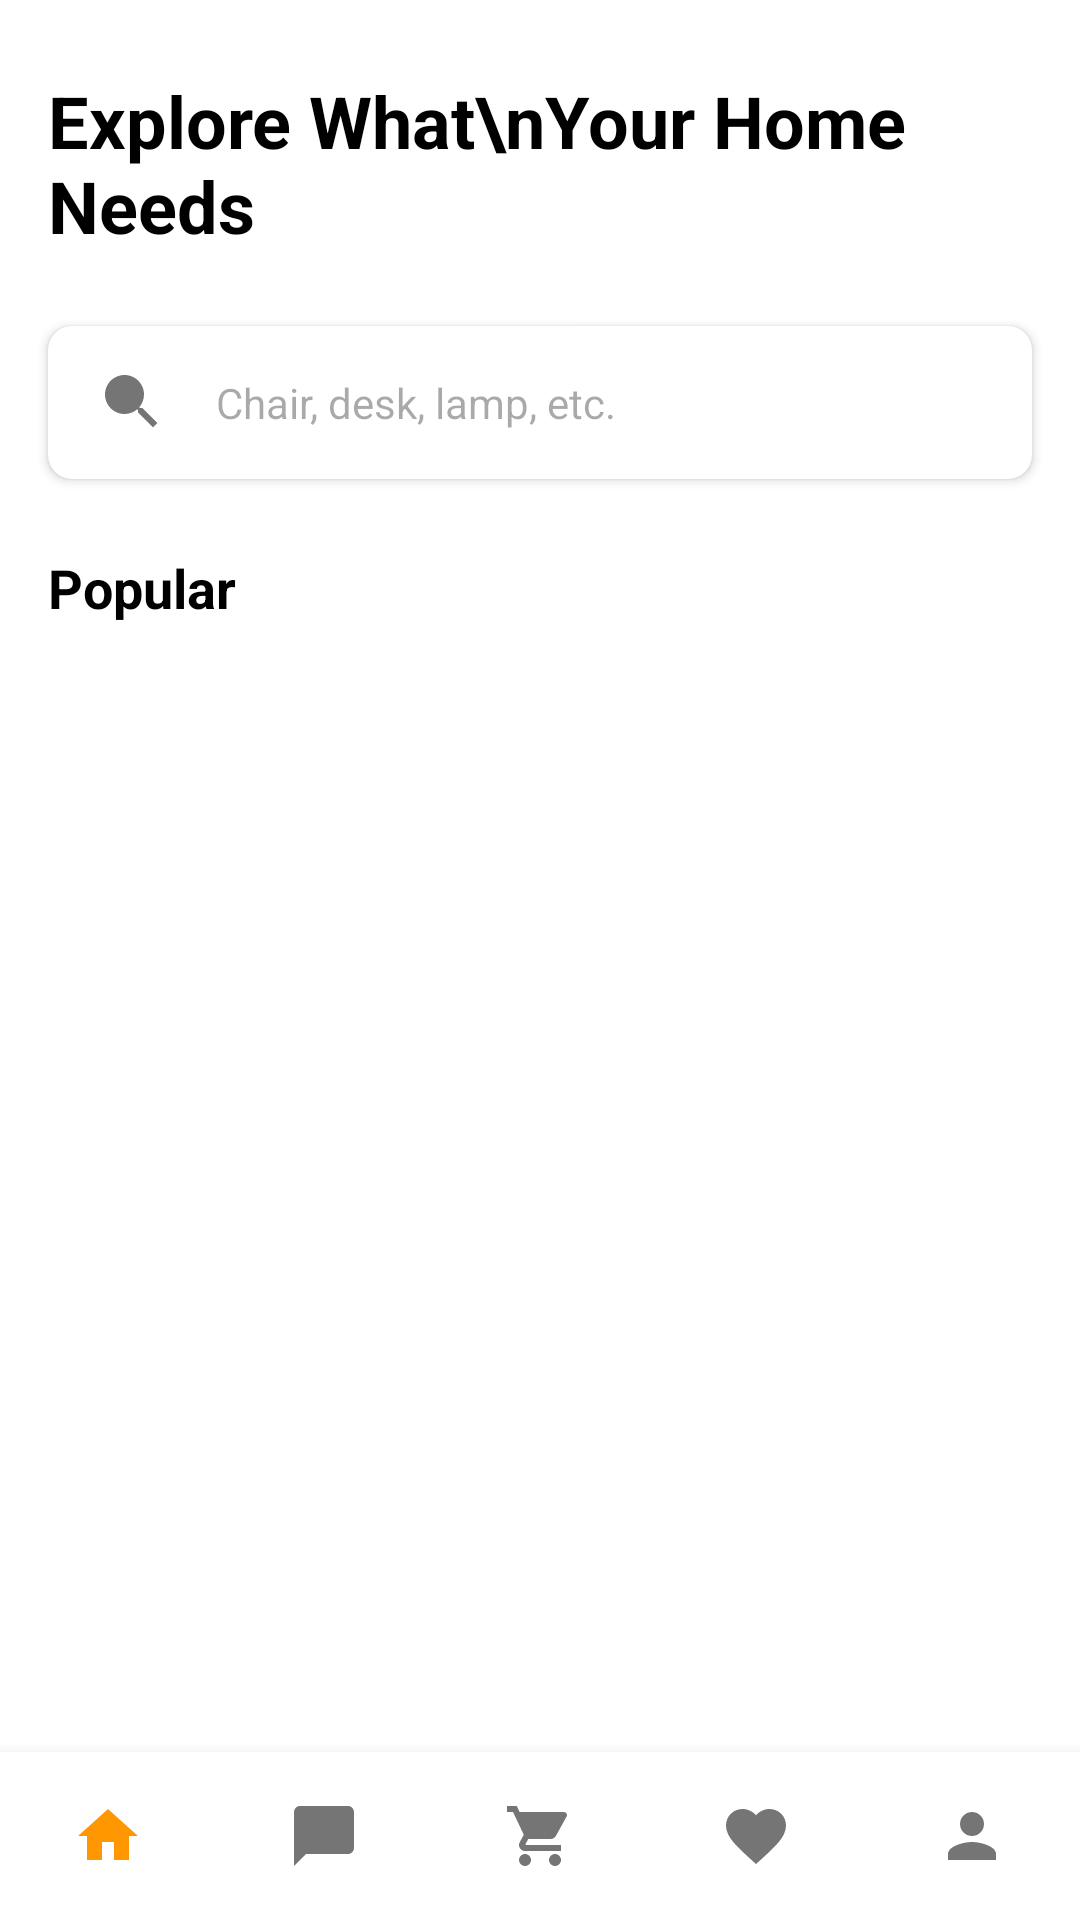

Point at icon controls on the screen. Image size 1080×1920, points as point (x, y).
cart: point (537, 1836)
chat: point (324, 1836)
favorite: point (756, 1836)
home: point (108, 1834)
profile: point (972, 1836)
search: point (131, 401)
